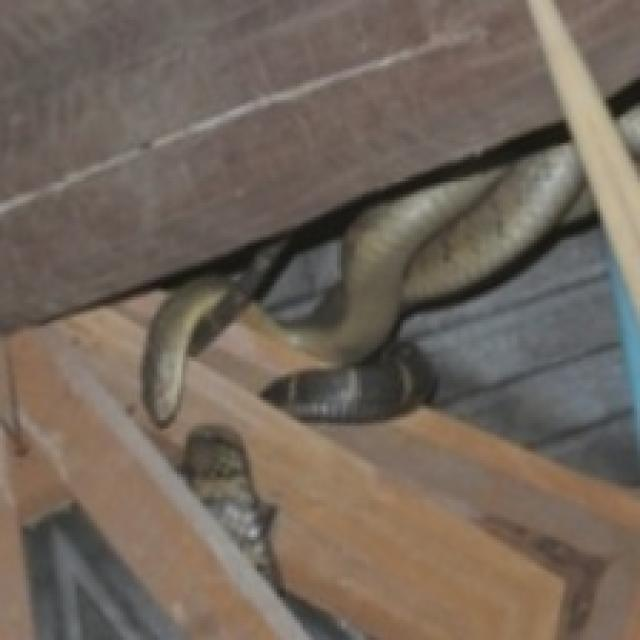king cobra: (143, 131, 591, 423)
